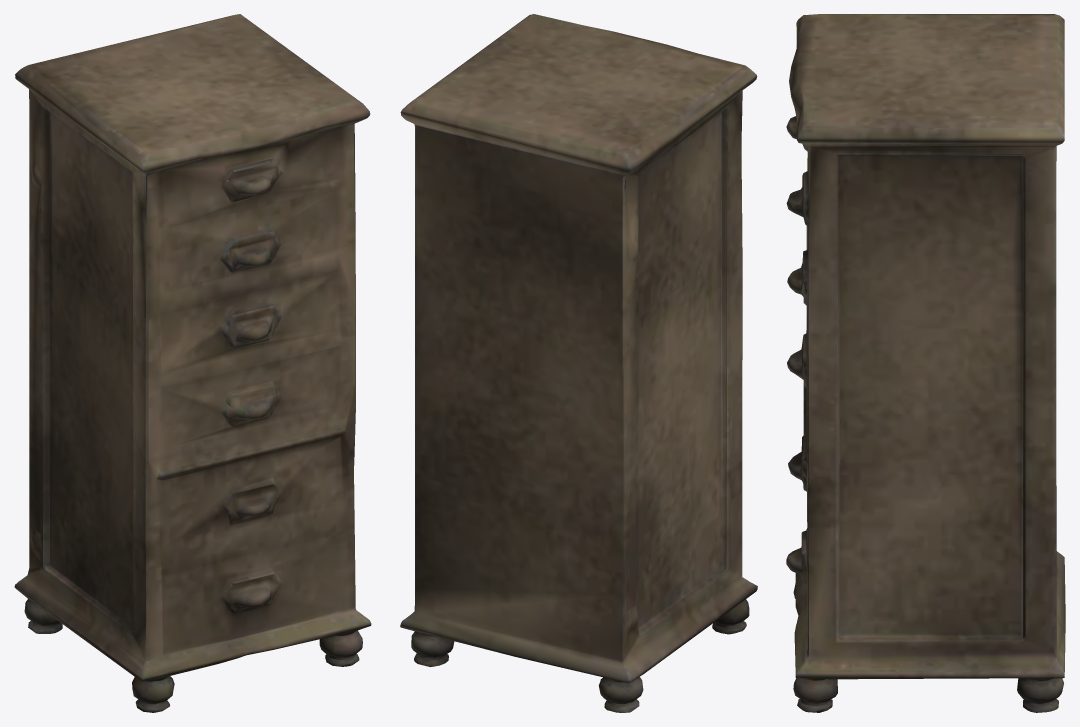
The model's file is old-wood-filing-cabinet-v002.glb.
The picture shows the model from 3 angles, left to right: view 1: azimuth 30°, elevation 25°; view 2: azimuth 150°, elevation 25°; view 3: azimuth 270°, elevation 25°; orthographic projection. The views are drawn at different scales.
Parts seen in each view (by area): view 1: old-wood-filing-cabinet; view 2: old-wood-filing-cabinet; view 3: old-wood-filing-cabinet.
Part boxes in pixels (left/top/right/bottom): old-wood-filing-cabinet: left=14, top=14, right=371, bottom=712; old-wood-filing-cabinet: left=400, top=14, right=757, bottom=712; old-wood-filing-cabinet: left=786, top=14, right=1065, bottom=712.
Bounding box in the file's own units: 0.6344 × 1.48 × 0.6346.
Materials: 1 (1 with a texture image).
